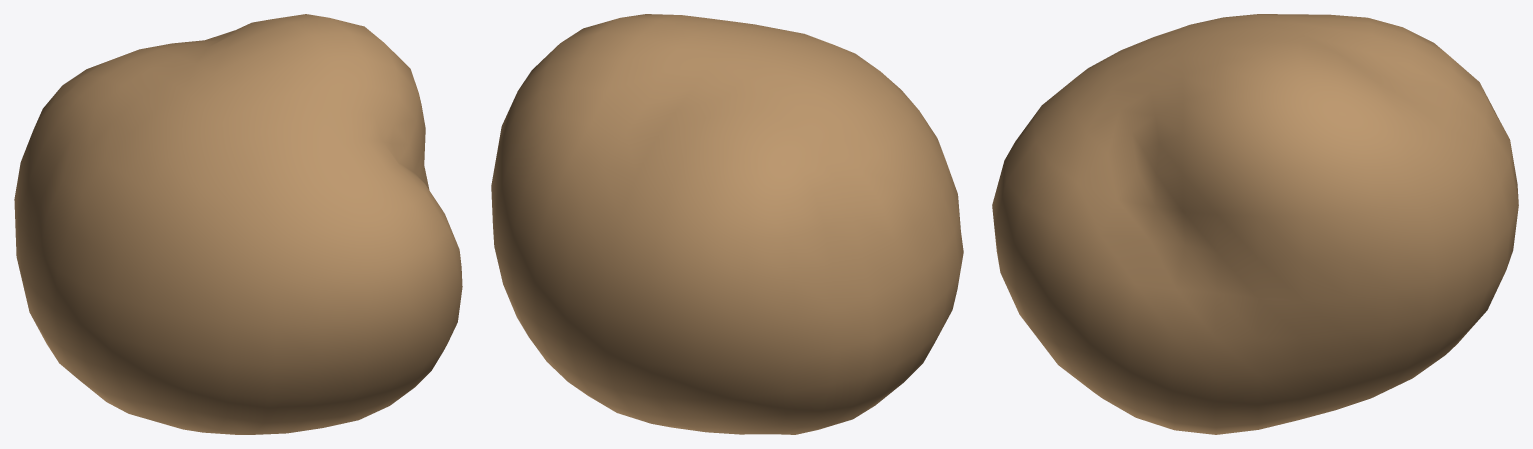
Rendered from potato (2).fbx.
3 views of the same model, side by side, from view 1: azimuth 30°, elevation 25°; view 2: azimuth 150°, elevation 25°; view 3: azimuth 270°, elevation 25° (orthographic). The views are drawn at different scales.
Visible parts, largest first — view 1: Potato; view 2: Potato; view 3: Potato.
Boxes of the visible parts, x1,y1,x2,y2 form: Potato: (14, 14, 462, 434); Potato: (491, 14, 963, 434); Potato: (992, 14, 1518, 434).
Size of the model in its own units: 37.04 by 32.27 by 42.22.
